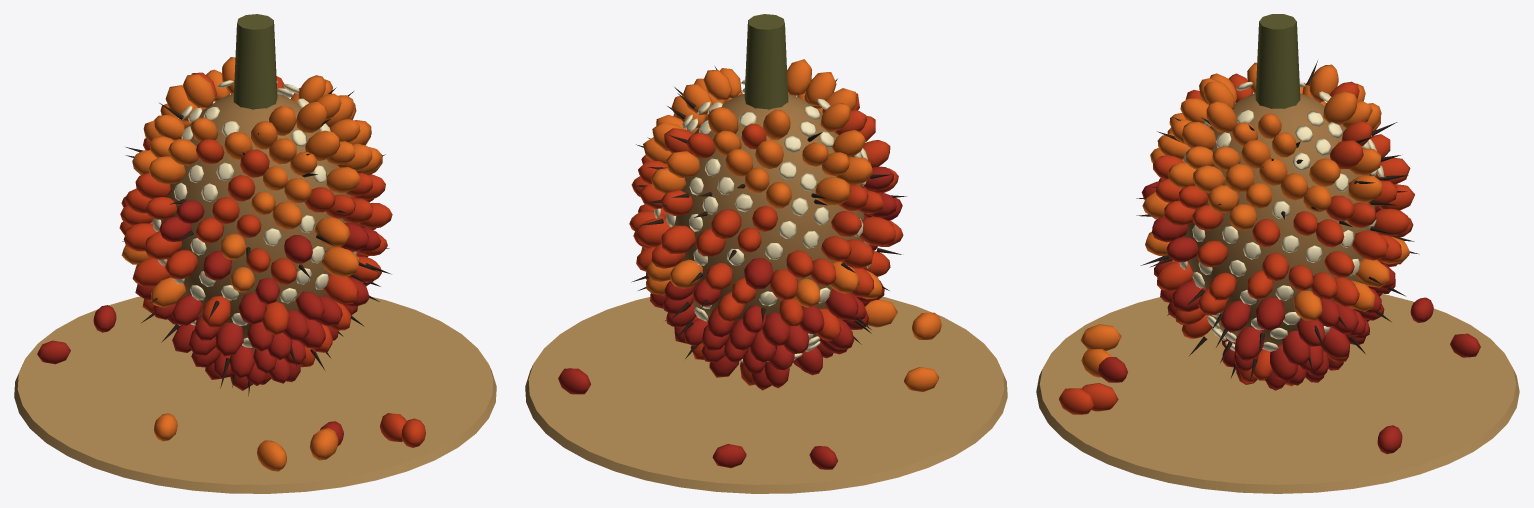
File: tbs-f2.glb
3 renders of one model, left to right at view 1: azimuth 30°, elevation 25°; view 2: azimuth 150°, elevation 25°; view 3: azimuth 270°, elevation 25°, orthographic.
Visible parts, largest first — view 1: TBS_fraksi_2; view 2: TBS_fraksi_2; view 3: TBS_fraksi_2.
Part boxes in pixels (left/top/right/bottom): TBS_fraksi_2: left=14, top=14, right=496, bottom=493; TBS_fraksi_2: left=525, top=14, right=1007, bottom=493; TBS_fraksi_2: left=1036, top=14, right=1519, bottom=493.
Bounding box in the file's own units: 0.69 × 0.583 × 0.69.
